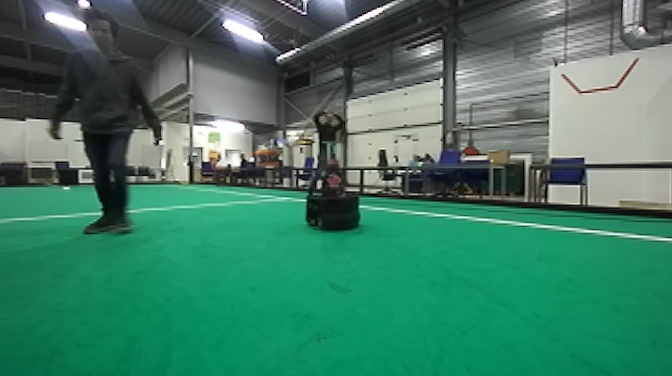human: (50, 11, 162, 243), (307, 108, 350, 192)
robot: (302, 142, 364, 230)
